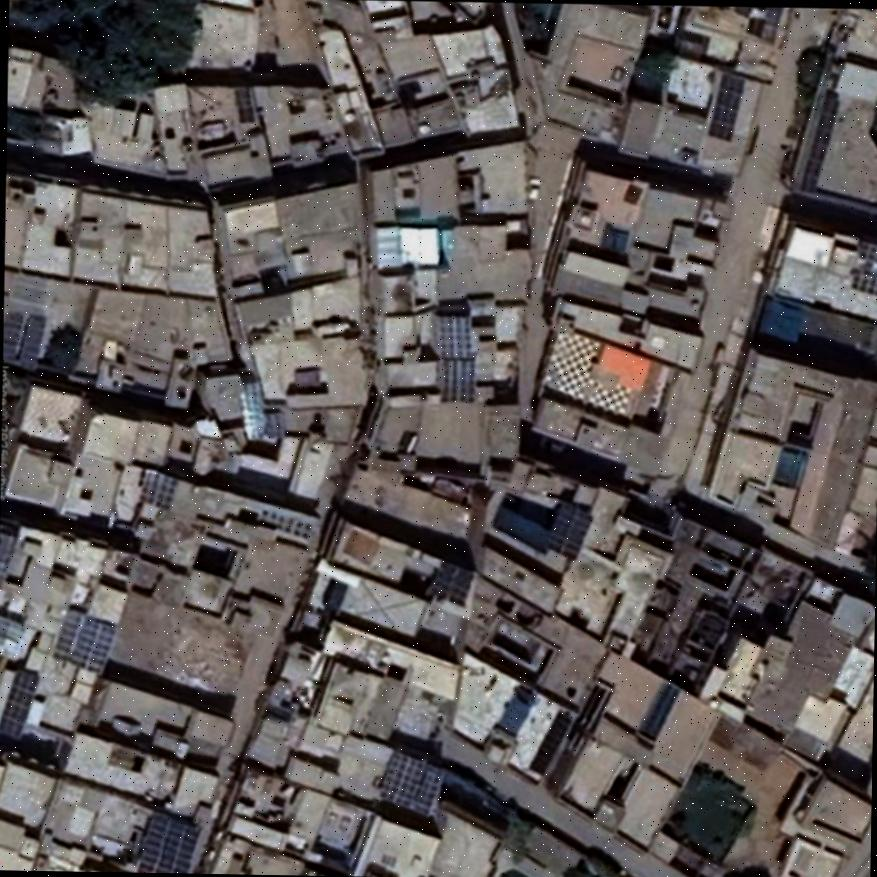Solarpanel: (378, 750, 441, 816), (53, 608, 114, 671), (801, 90, 839, 190), (137, 813, 197, 872), (0, 667, 38, 739), (546, 501, 589, 560), (3, 306, 43, 368), (706, 72, 742, 140), (433, 561, 474, 605), (395, 226, 437, 265), (439, 357, 473, 400), (851, 241, 877, 294), (140, 471, 178, 507), (437, 315, 469, 357), (243, 381, 266, 436)
